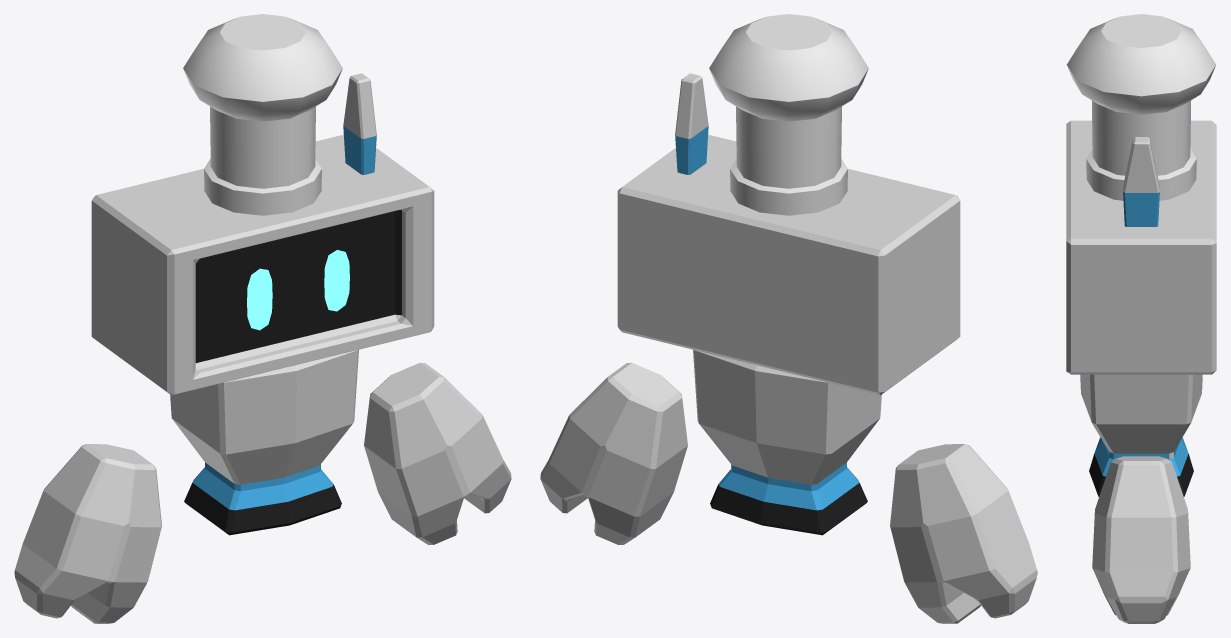
File: RobotChef.fbx
The picture shows the model from 3 angles, left to right: view 1: azimuth 30°, elevation 25°; view 2: azimuth 150°, elevation 25°; view 3: azimuth 270°, elevation 25°; orthographic projection. The views are drawn at different scales.
Visible parts, largest first — view 1: Cube.016, Cube.018, Cube.017, Cylinder, Cube.019, Plane.004; view 2: Cube.016, Cube.018, Cube.017, Cylinder, Cube.019; view 3: Cube.016, Cylinder, Cube.018, Cube.017, Cube.019.
Boxes of the visible parts, <box> form: Cube.016: <box>91,134,434,395</box>; Cube.018: <box>14,362,511,623</box>; Cube.017: <box>170,349,358,535</box>; Cylinder: <box>183,14,342,215</box>; Cube.019: <box>343,73,376,174</box>; Plane.004: <box>247,250,349,330</box>; Cube.016: <box>617,134,960,395</box>; Cube.018: <box>540,362,1037,623</box>; Cube.017: <box>693,349,881,535</box>; Cylinder: <box>709,14,868,215</box>; Cube.019: <box>675,73,708,174</box>; Cube.016: <box>1066,120,1216,374</box>; Cylinder: <box>1066,14,1216,200</box>; Cube.018: <box>1092,456,1190,623</box>; Cube.017: <box>1080,374,1202,496</box>; Cube.019: <box>1123,137,1159,226</box>.
Size of the model in its own units: 110 by 121 by 32.18.
